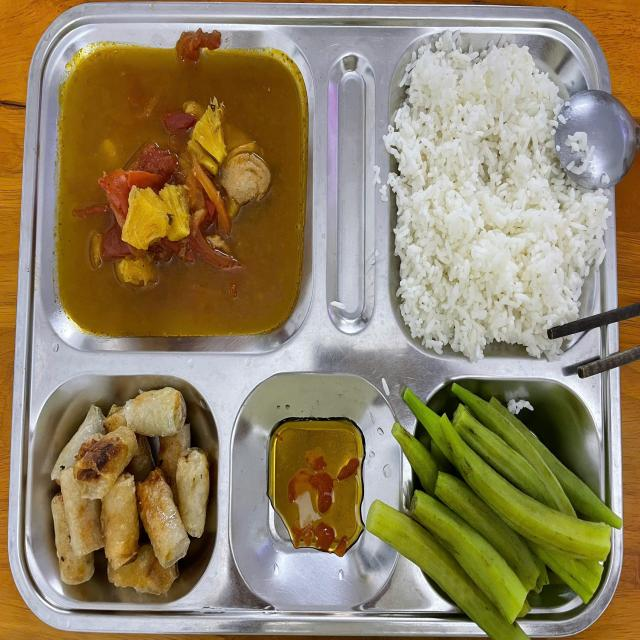canhchua: (58, 42, 298, 336)
chagiochien: (45, 391, 210, 592)
daubap: (392, 377, 614, 619)
salad: (399, 47, 586, 356)
